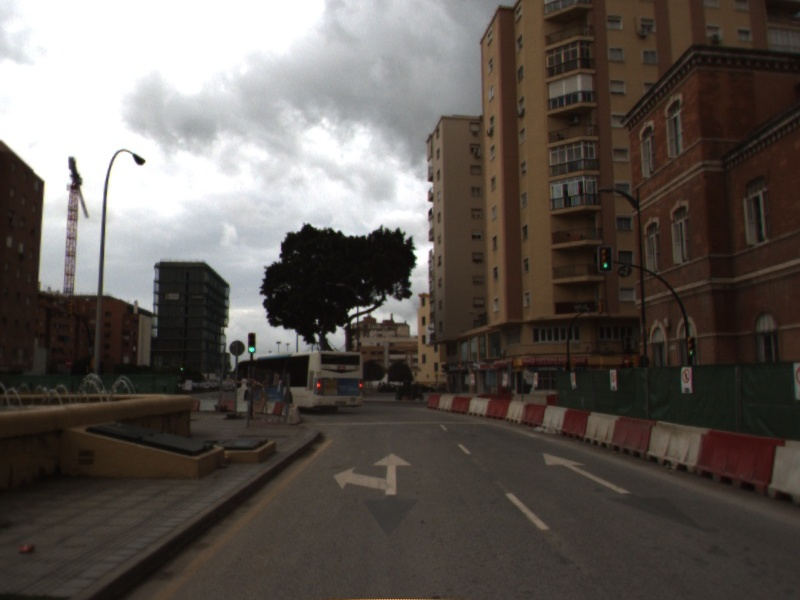STRAIGHT: (542, 452, 634, 495)
STRAIGHT_LEFT: (332, 451, 414, 496)
